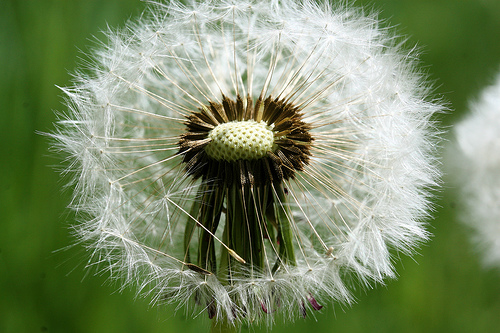dandelion: (38, 1, 453, 325)
